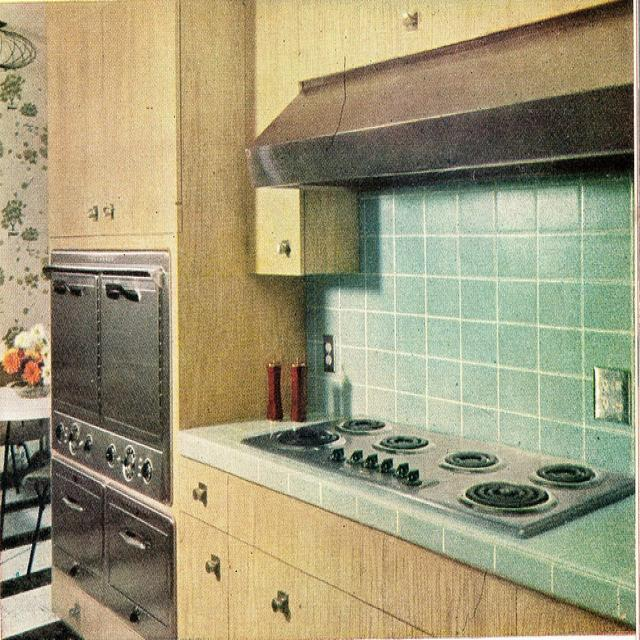chair: (18, 451, 54, 577)
dining table: (2, 382, 50, 423)
